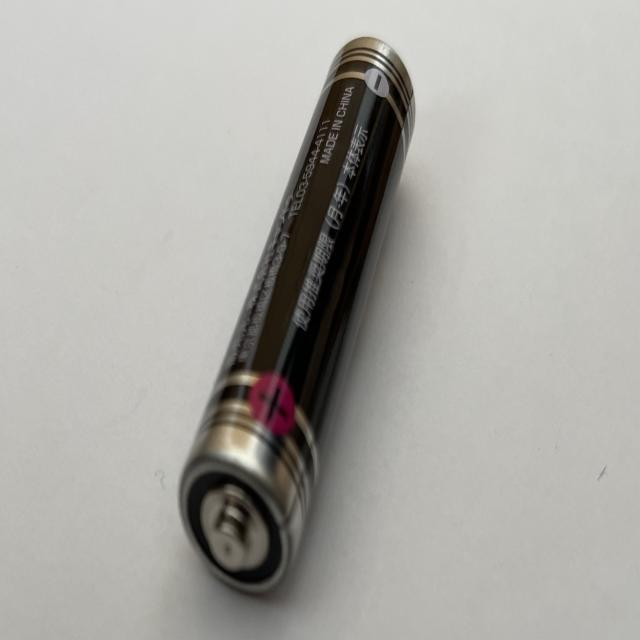AAA: (174, 38, 418, 598)
